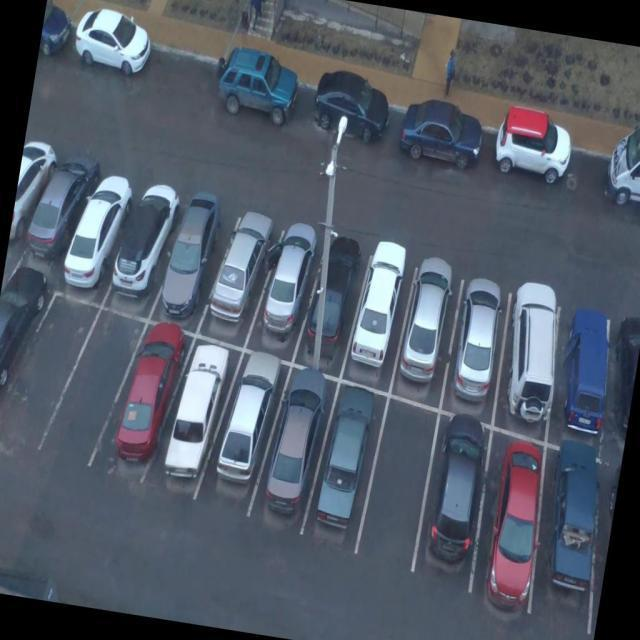car: (519, 433, 612, 634), (464, 424, 556, 627), (406, 398, 496, 602), (251, 358, 336, 552), (204, 338, 282, 528), (484, 274, 577, 432), (307, 374, 386, 558), (160, 328, 233, 518), (107, 317, 186, 485), (537, 298, 621, 448), (104, 168, 186, 320), (389, 247, 467, 405), (58, 158, 137, 300), (439, 272, 519, 409), (344, 229, 416, 377), (203, 198, 277, 342), (153, 188, 226, 332), (250, 210, 322, 354), (296, 225, 366, 368), (21, 158, 94, 270), (580, 455, 622, 634), (5, 148, 64, 272), (593, 320, 639, 464)
free: (0, 274, 98, 468), (355, 392, 439, 572), (56, 302, 138, 472)
